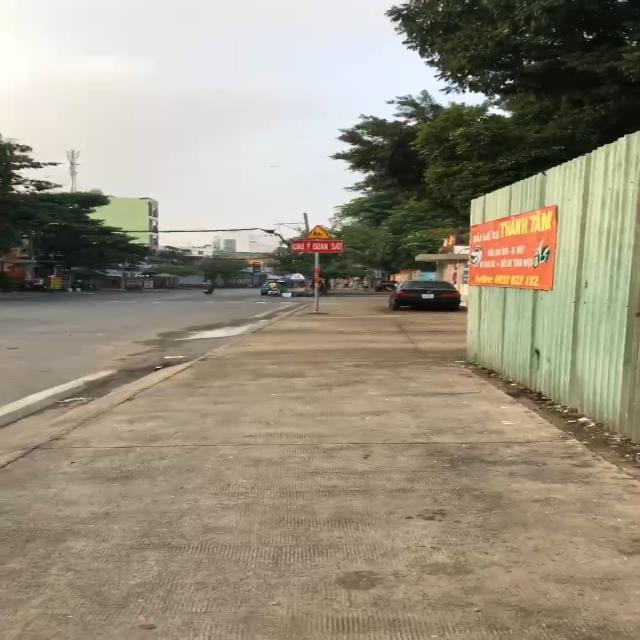Bien bao tre em: (302, 222, 334, 239)
